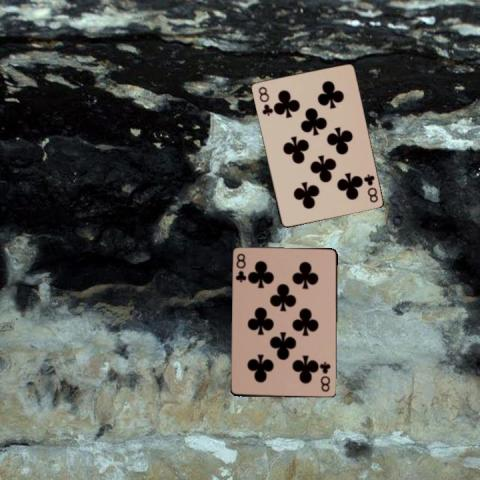8c: (255, 84, 273, 118), (360, 171, 378, 204), (318, 360, 332, 394), (233, 251, 247, 283)
